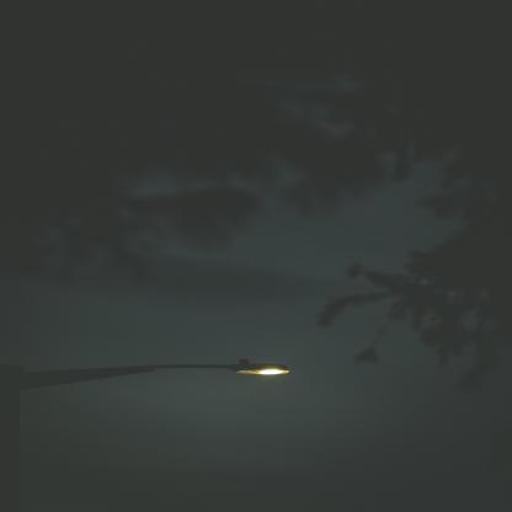street light: (0, 355, 303, 406)
